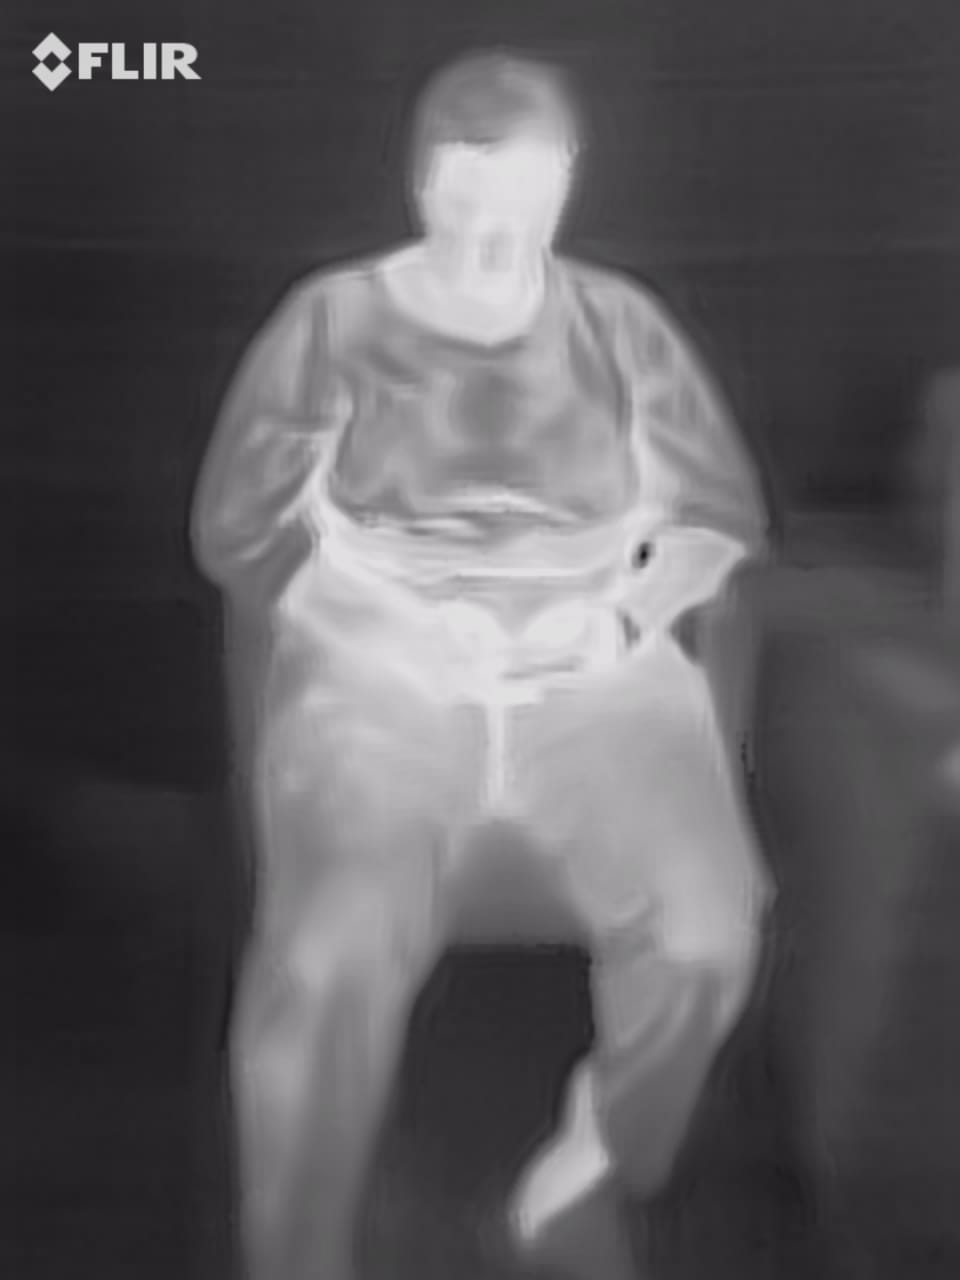head: (392, 53, 591, 317)
